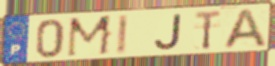0: (34, 17, 67, 59)
A: (221, 7, 270, 51)
I: (115, 13, 130, 56)
J: (153, 12, 184, 51)
M: (65, 14, 115, 59)
T: (193, 9, 223, 52)
